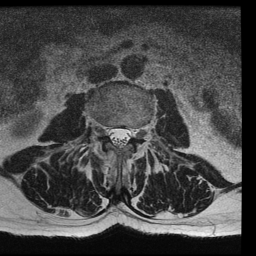CCS_normal: (116, 119, 124, 151)
LFS_normal: (131, 121, 138, 142)
LLS_normal: (124, 120, 130, 148)
RFS_normal: (101, 119, 109, 142)
RLS_normal: (109, 120, 115, 146)
